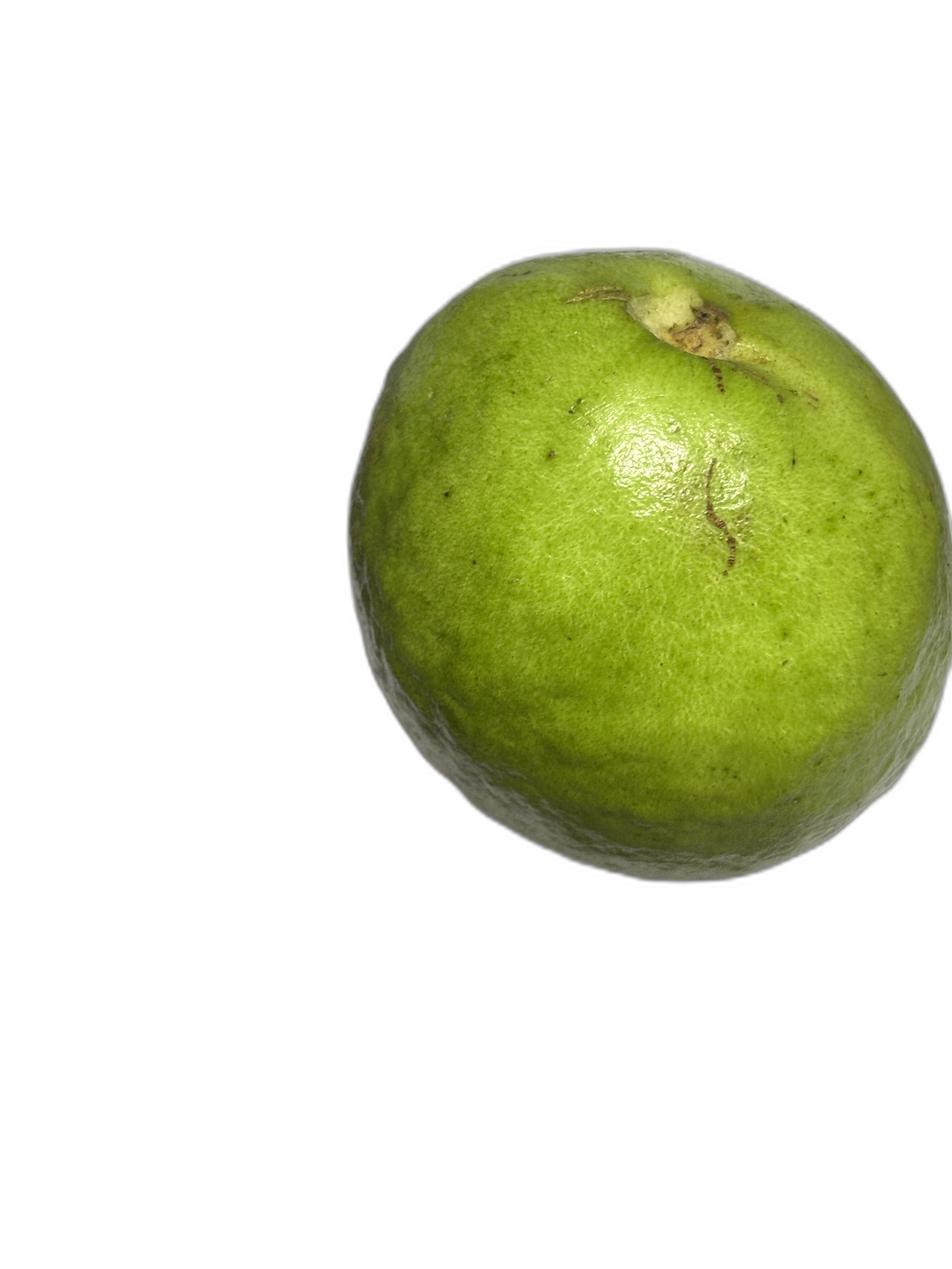guava: (46, 26, 842, 1113)
